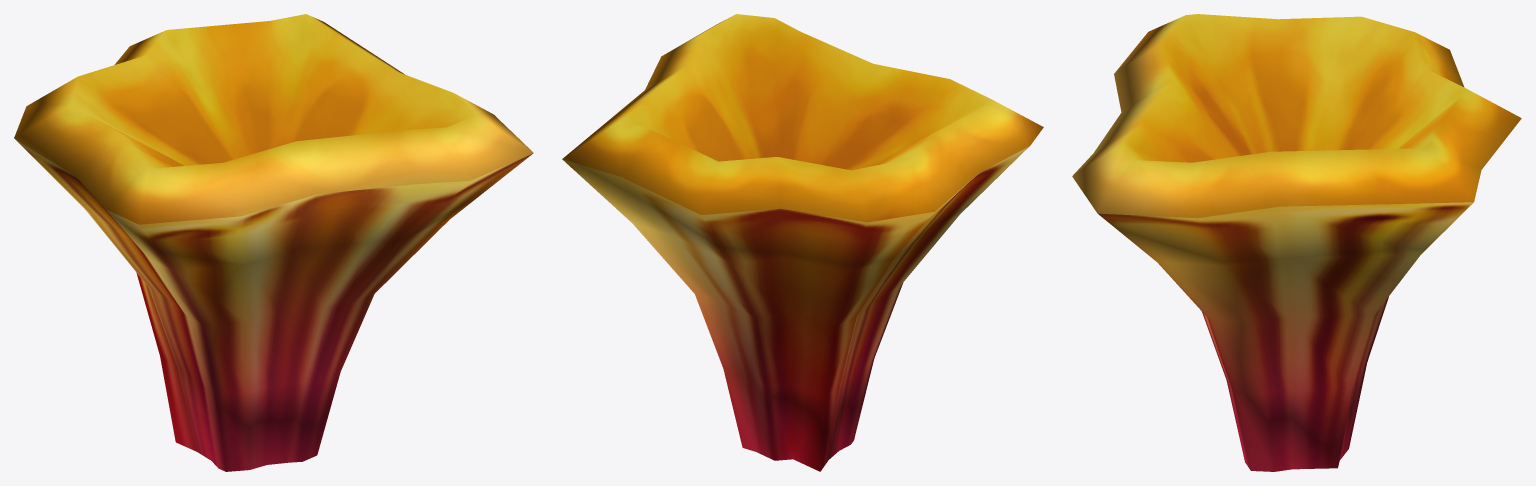
The model's file is Mushroom12.fbx.
The picture shows the model from 3 angles, left to right: view 1: azimuth 30°, elevation 25°; view 2: azimuth 150°, elevation 25°; view 3: azimuth 270°, elevation 25°; orthographic projection. The views are drawn at different scales.
Visible parts, largest first — view 1: Mushroom12; view 2: Mushroom12; view 3: Mushroom12.
Boxes of the visible parts, box(x1,y1,x2,y2) form: Mushroom12: box(14, 14, 533, 471); Mushroom12: box(562, 14, 1043, 471); Mushroom12: box(1072, 14, 1521, 471).
Size of the model in its own units: 1.04 by 0.9132 by 1.03.
